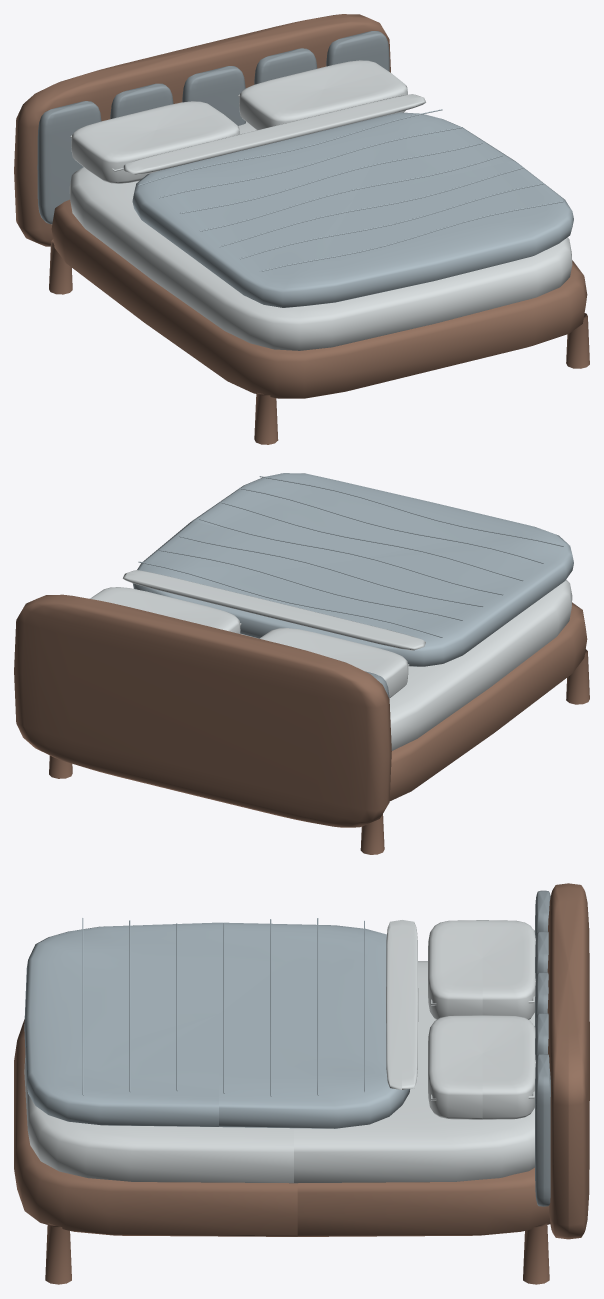
Rendered from room_bed_dressed_v01.glb.
3 renders of one model, top to bottom at view 1: azimuth 30°, elevation 25°; view 2: azimuth 150°, elevation 25°; view 3: azimuth 270°, elevation 25°, orthographic. The views are drawn at different scales.
Visible parts, largest first — view 1: Art Dressed Bed v01; view 2: Art Dressed Bed v01; view 3: Art Dressed Bed v01.
Boxes of the visible parts, left/top/right/bottom form: Art Dressed Bed v01: left=14, top=14, right=589, bottom=444; Art Dressed Bed v01: left=14, top=473, right=589, bottom=854; Art Dressed Bed v01: left=14, top=883, right=589, bottom=1284.
Size of the model in its own units: 1.86 by 0.92 by 2.15.
